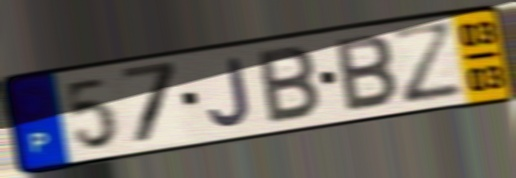5: (66, 73, 122, 153)
7: (118, 58, 182, 150)
B: (332, 31, 401, 116), (255, 43, 323, 127)
J: (206, 55, 253, 129)
Z: (387, 19, 468, 109)
